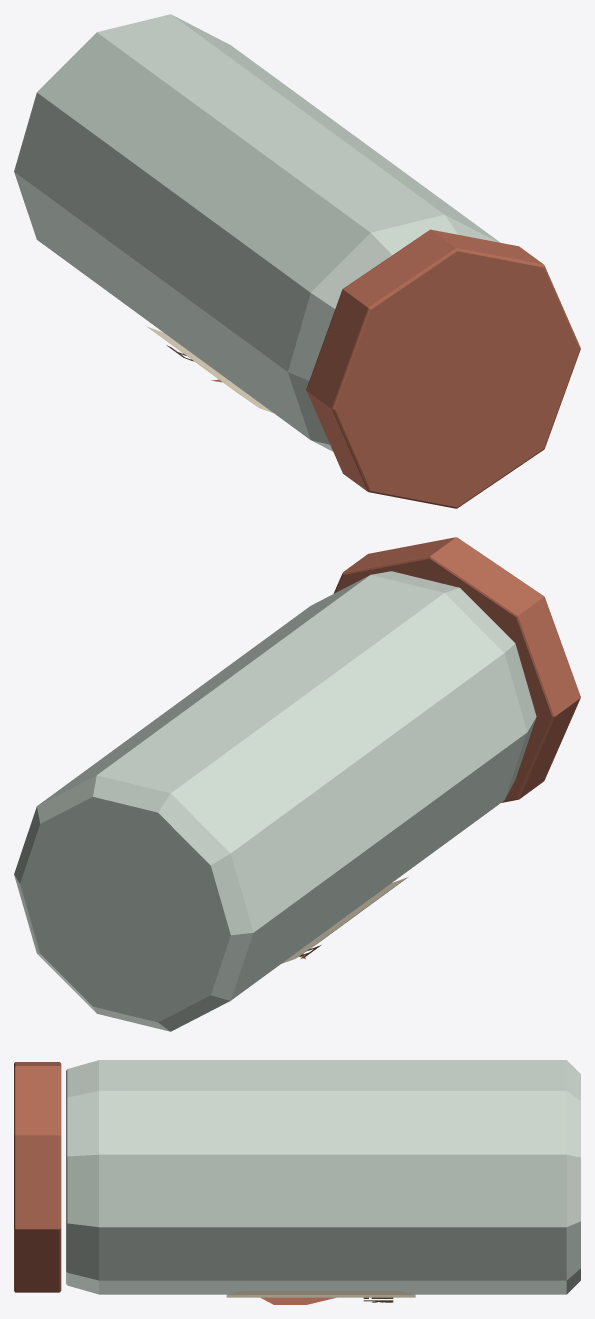
Rendered from paprika.glb.
The picture shows the model from 3 angles, top to bottom: view 1: azimuth 30°, elevation 25°; view 2: azimuth 150°, elevation 25°; view 3: azimuth 270°, elevation 25°; orthographic projection. The views are drawn at different scales.
Visible parts, largest first — view 1: paprika; view 2: paprika; view 3: paprika.
Boxes of the visible parts, box(x1,y1,x2,y2) form: paprika: box(14, 14, 580, 508); paprika: box(14, 537, 580, 1031); paprika: box(14, 1060, 580, 1304).
Bounding box in the file's own units: 0.052 × 0.053 × 0.12.
